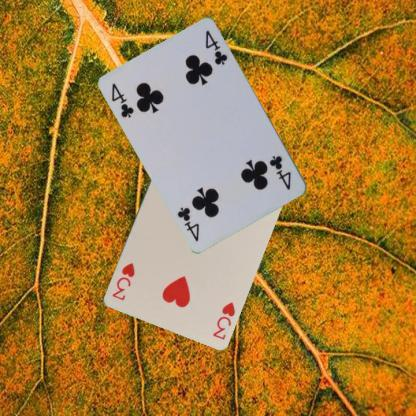3h: (210, 299, 236, 341)
4c: (266, 153, 296, 191), (109, 80, 136, 119)
